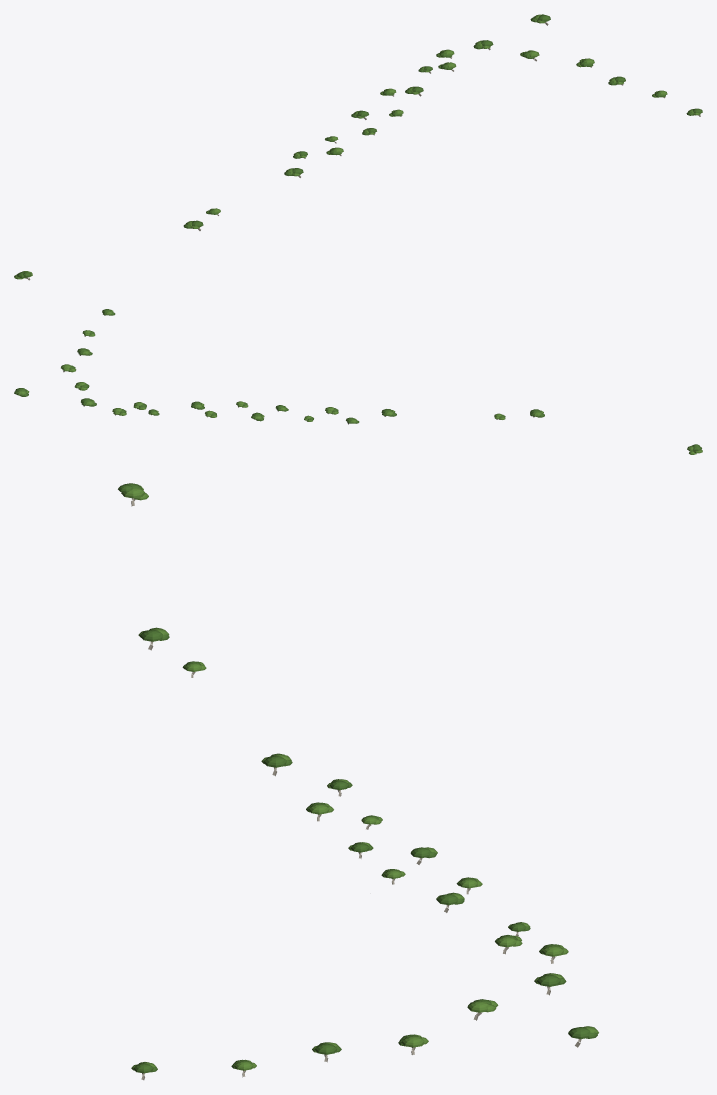
Rendered from eb_fofoti_13.glb.
3 renders of one model, top to bottom at view 1: azimuth 30°, elevation 25°; view 2: azimuth 150°, elevation 25°; view 3: azimuth 270°, elevation 25°, orthographic. The views are drawn at different scales.
Visible parts, largest first — view 1: eb_fofoti_13_lod0; view 2: eb_fofoti_13_lod0; view 3: eb_fofoti_13_lod0.
Part boxes in pixels (bbox=[...]): eb_fofoti_13_lod0: bbox=[14, 14, 702, 280]; eb_fofoti_13_lod0: bbox=[14, 309, 702, 454]; eb_fofoti_13_lod0: bbox=[118, 483, 598, 1080].
Size of what is drawn, in the model's own units: 415 by 9.63 by 145.
